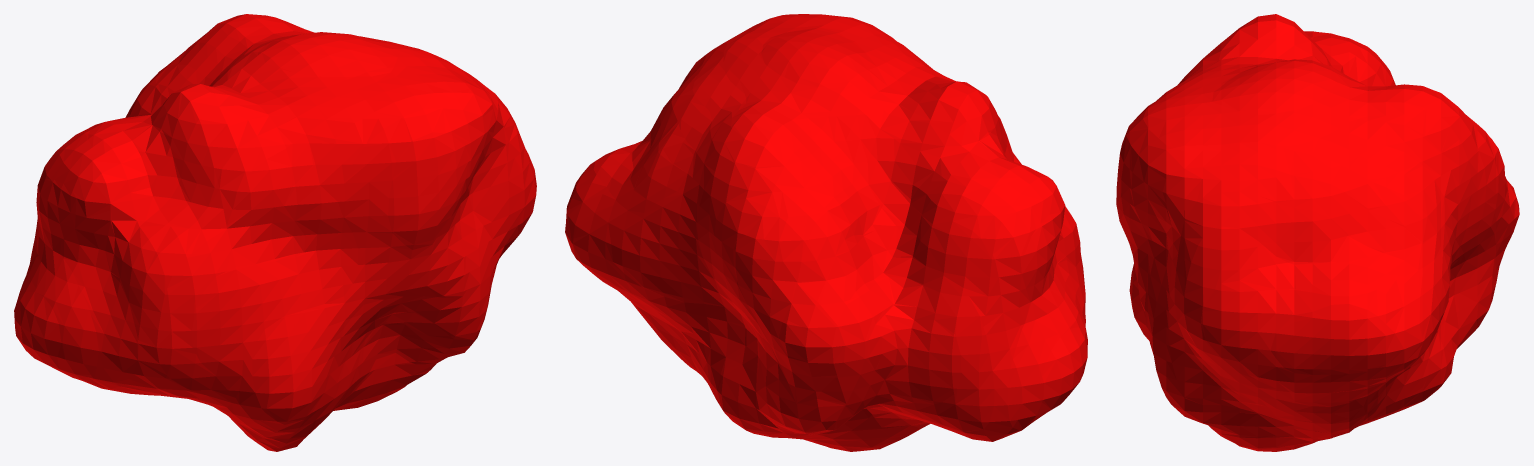
The model's file is pncA_coarse.dae.
3 renders of one model, left to right at view 1: azimuth 30°, elevation 25°; view 2: azimuth 150°, elevation 25°; view 3: azimuth 270°, elevation 25°, orthographic.
Parts seen in each view (by area): view 1: pncA; view 2: pncA; view 3: pncA.
Part boxes in pixels (bbox=[...]): pncA: bbox=[14, 14, 536, 451]; pncA: bbox=[565, 14, 1087, 451]; pncA: bbox=[1116, 14, 1519, 451].
Bounding box in the file's own units: 55.7 × 40.48 × 40.21.
